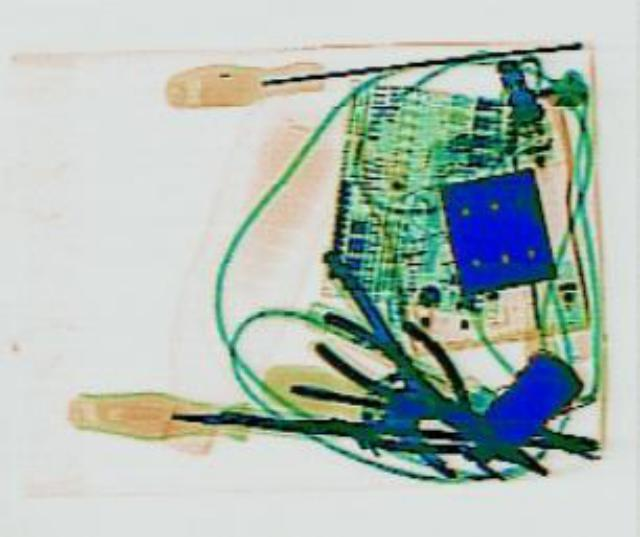Pliers: (306, 291, 580, 497), (276, 380, 598, 467)
